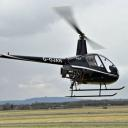helicopter: (2, 6, 128, 101)
